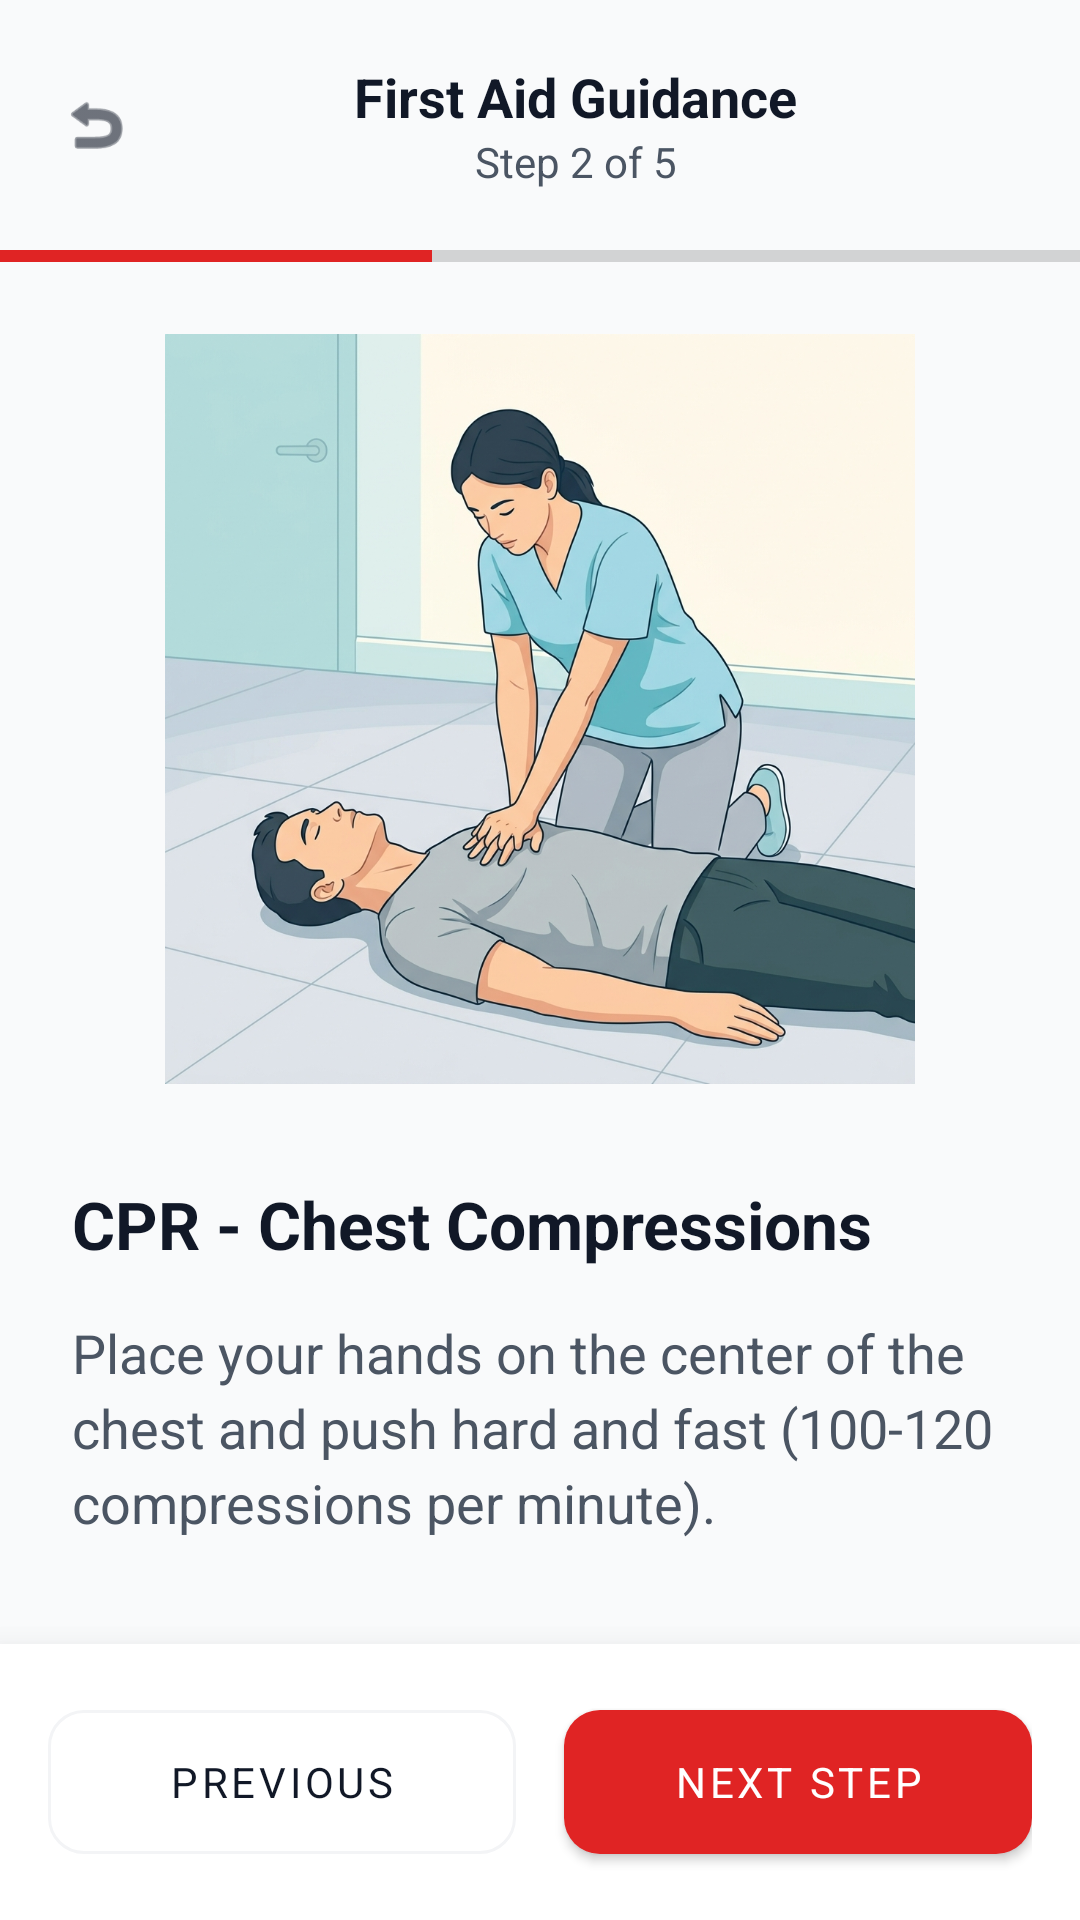

Screen size 1080px×1920px. Icon name, then its box in pixels as (x1, y1, x2, y2):
revert: (71, 102, 123, 149)
